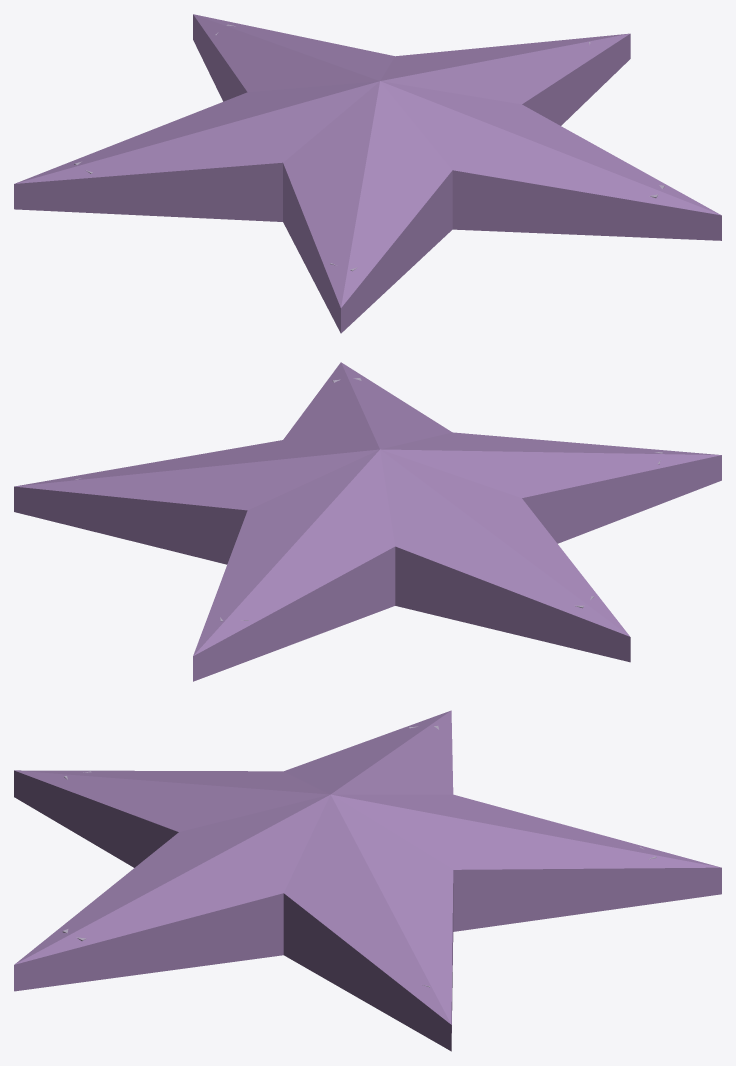
Rendered from starfish_purple.glb.
The picture shows the model from 3 angles, top to bottom: view 1: azimuth 30°, elevation 25°; view 2: azimuth 150°, elevation 25°; view 3: azimuth 270°, elevation 25°; orthographic projection. The views are drawn at different scales.
Visible parts, largest first — view 1: starfish_purple; view 2: starfish_purple; view 3: starfish_purple.
Part boxes in pixels (x1=…): starfish_purple: x1=14, y1=14, x2=721, y2=333; starfish_purple: x1=14, y1=362, x2=721, y2=681; starfish_purple: x1=14, y1=710, x2=721, y2=1051.
Size of the model in its own units: 0.3043 by 0.045 by 0.2894.
